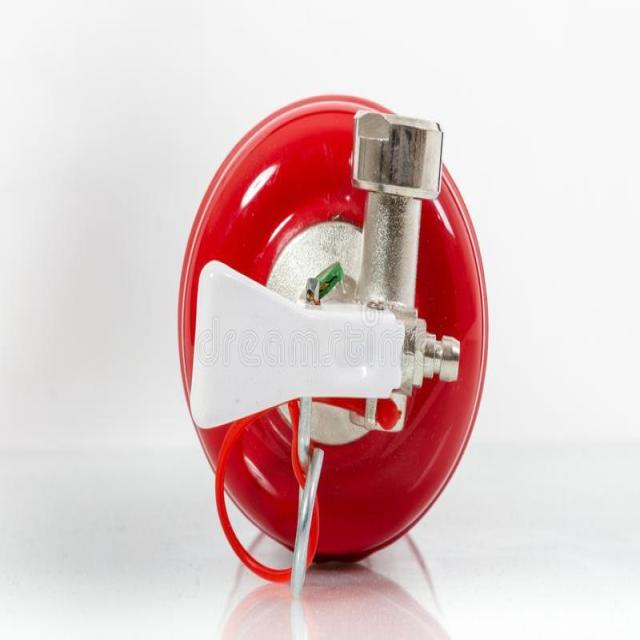fire_extinguisher: (174, 88, 496, 605)
